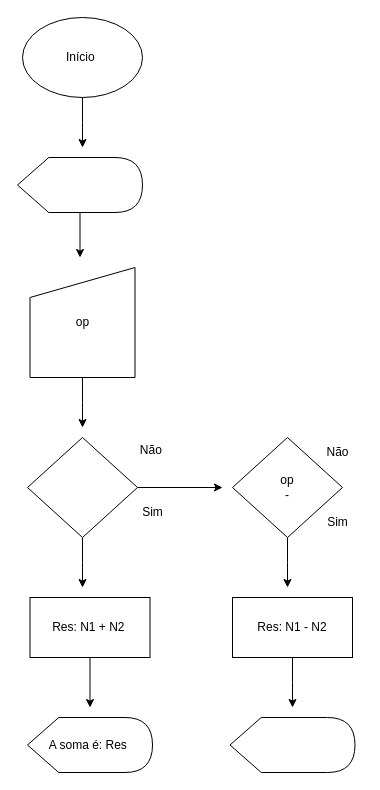
Image size: 380x790. Some labels were removed from this diagram. Each missing label, with the centre of its shape:
"A subtração é Res" goes at point 292,744.
"Digita a operação" goes at point 79,184.
"op +" goes at point 82,487.
